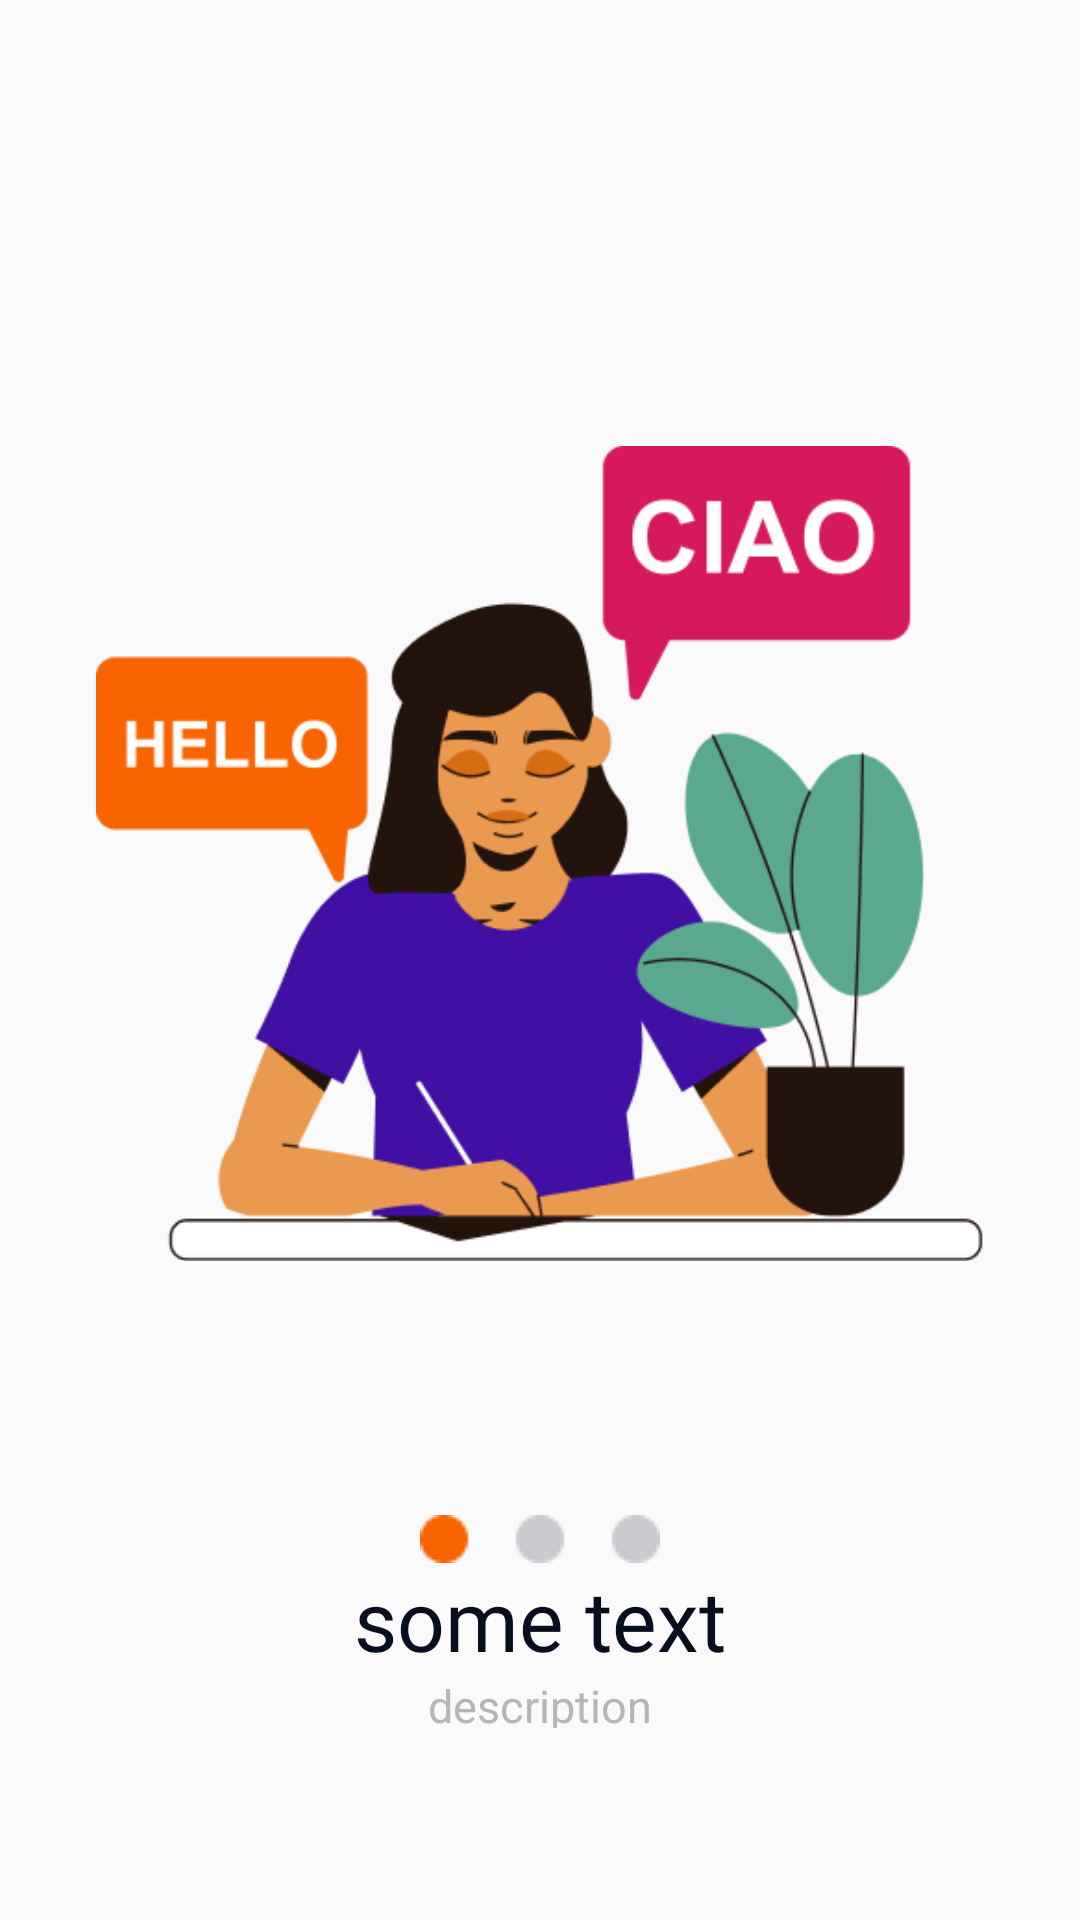

Icon click points for this 1080w x 1920h phone screenshot, format [x,y]:
onboarding dots: [540,1539]
